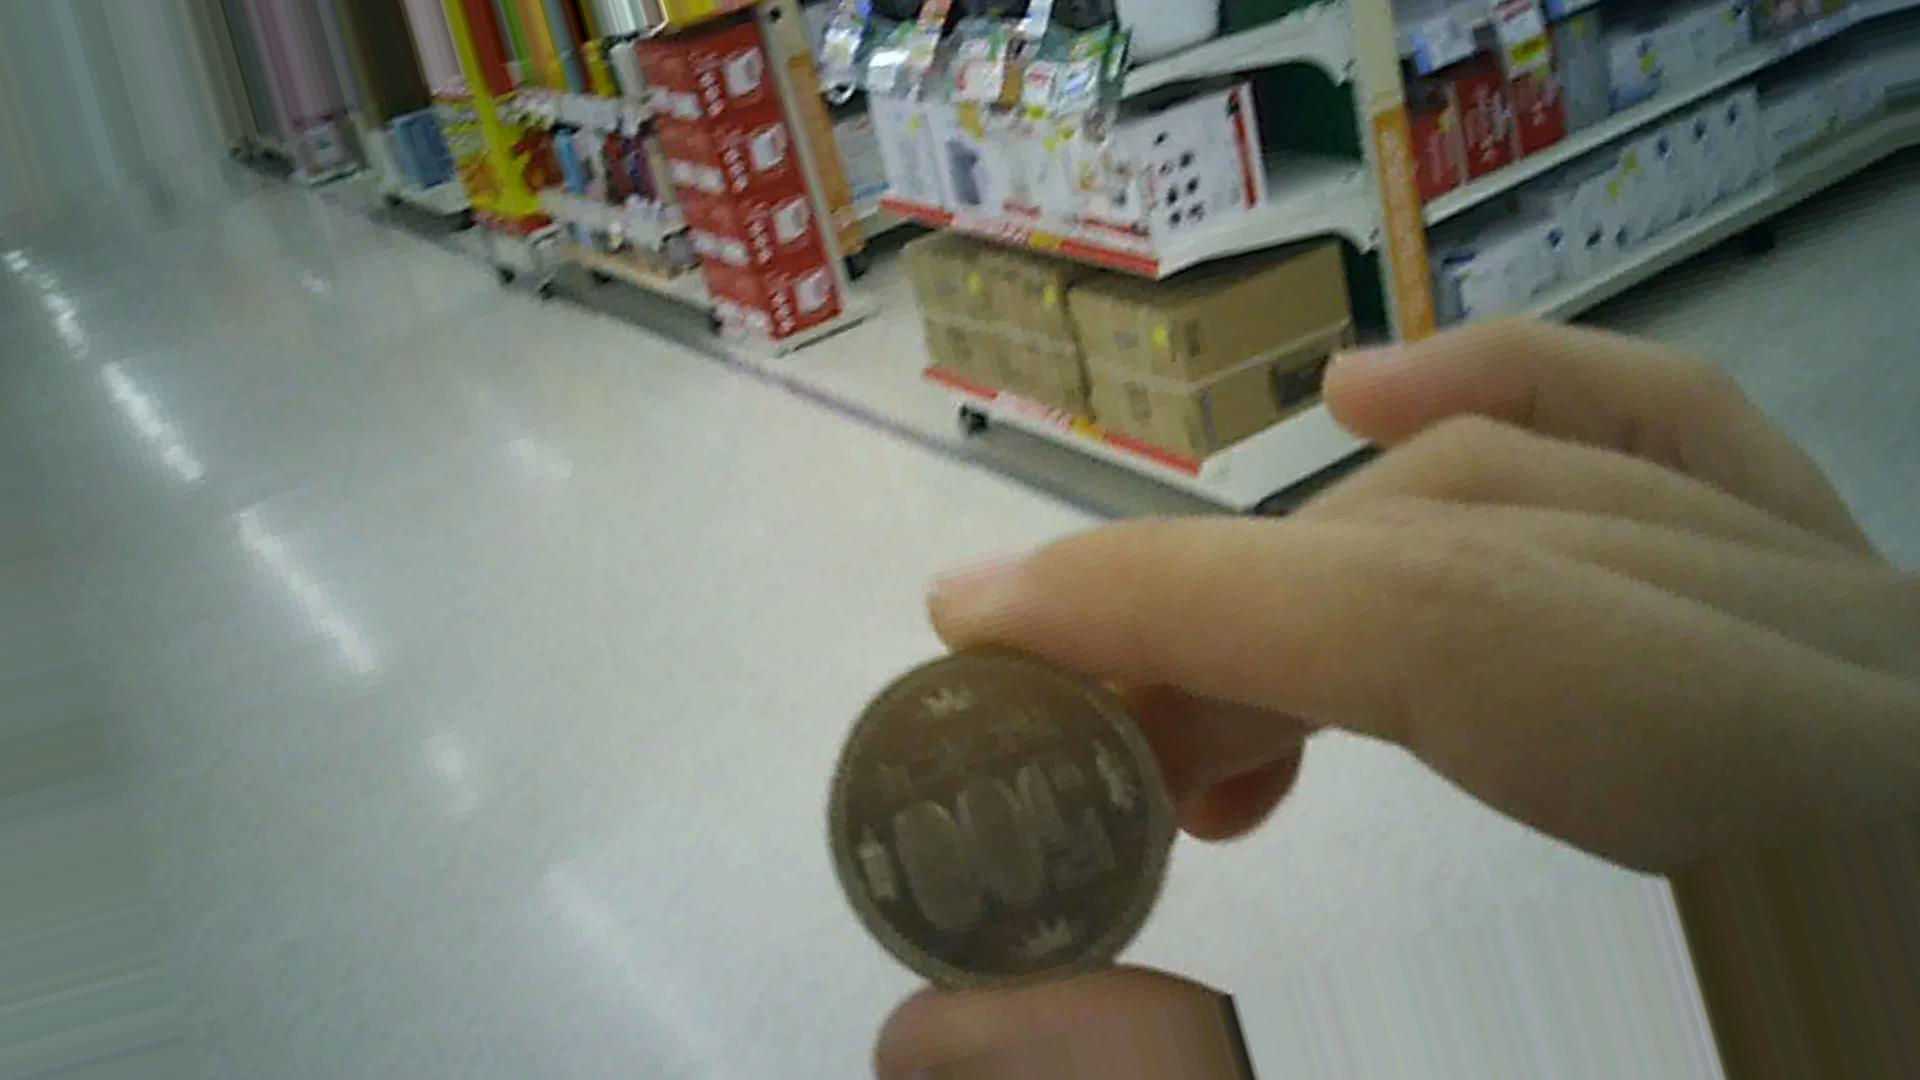500 Yen: (814, 657, 1178, 997)
